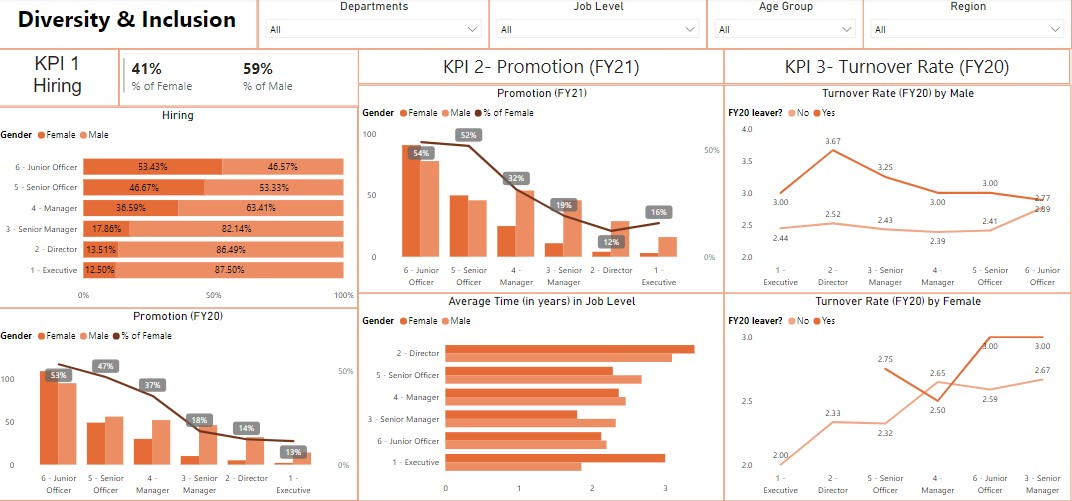

What the dashboard file says about the page in this screenshot:
{"tool":"powerbi","page":{"name":"Dashboard 1","canvas":[1540,720],"ordinal":0},"visuals":[{"type":"textbox","box":[0,0,374.4,73.4],"z":0},{"type":"slicer","title":"Departments","fields":{"Values":["Pharma Group AG.Last Department in FY20"]},"box":[374.6,0,330.7,73.2],"z":1000},{"type":"slicer","title":"Job Level","fields":{"Values":["Pharma Group AG.Job Level after FY20 promotions"]},"box":[705.4,0,311.7,73.2],"z":2000},{"type":"slicer","title":"Region","fields":{"Values":["Pharma Group AG.Broad region group: nationality 1"]},"box":[1241,0,299,73.4],"z":3000},{"type":"slicer","title":"Age Group","fields":{"Values":["Pharma Group AG.Age group"]},"box":[1017.1,0,223.9,73.2],"z":4000},{"type":"hundredPercentStackedBarChart","title":"Hiring","fields":{"Y":["CountNonNull(Pharma Group AG.Employee ID)"],"Category":["Pharma Group AG.Job Level after FY20 promotions"],"Series":["Pharma Group AG.Gender"]},"box":[0,155.5,518.4,288],"z":5000},{"type":"lineClusteredColumnComboChart","title":"Promotion (FY20)","fields":{"Y":["CountNonNull(Pharma Group AG.Employee ID)"],"Series":["Pharma Group AG.Gender"],"Y2":["Pharma Group AG.% of Female"],"Category":["Pharma Group AG.Job Level after FY20 promotions"]},"box":[0,443.5,518.4,276.5],"z":6000},{"type":"lineClusteredColumnComboChart","title":"Promotion (FY21)","fields":{"Y":["CountNonNull(Pharma Group AG.Employee ID)"],"Series":["Pharma Group AG.Gender"],"Y2":["Pharma Group AG.% of Female"],"Category":["Pharma Group AG.Job Level after FY21 promotions"]},"box":[518.4,123.8,524.2,298.1],"z":7000},{"type":"clusteredBarChart","title":"Average Time (in years) in Job Level ","fields":{"Category":["Pharma Group AG.Job Level after FY20 promotions"],"Y":["Avg(Pharma Group AG.Time in Job Level @01.07.2020)"],"Series":["Pharma Group AG.Gender"]},"box":[518.4,421.9,524.2,298.1],"z":8000},{"type":"lineChart","title":"Turnover Rate (FY20) by Female","fields":{"Category":["Pharma Group AG.Job Level after FY20 promotions"],"Y":["Avg(Pharma Group AG.FY19 Performance Rating)"],"Series":["Pharma Group AG.FY20 leaver?"]},"box":[1042.6,421.9,496.8,298.1],"z":9000},{"type":"lineChart","title":"Turnover Rate (FY20) by Male","fields":{"Category":["Pharma Group AG.Job Level after FY20 promotions"],"Y":["Avg(Pharma Group AG.FY19 Performance Rating)"],"Series":["Pharma Group AG.FY20 leaver?"]},"box":[1042.6,123.8,496.8,298.1],"z":10000},{"type":"textbox","box":[0,73.4,175.7,82.1],"z":11000},{"type":"textbox","box":[518.4,73.4,524.2,50.4],"z":12000},{"type":"textbox","box":[1042.6,73.4,495.4,50.4],"z":13000},{"type":"multiRowCard","fields":{"Values":["Pharma Group AG.% of Female","Pharma Group AG.% of Male"]},"box":[175.7,73.4,342.7,82.1],"z":14000}]}

Visuals, with their boxes in screenshot pixels (x1, y1, x2, y2), scaled from the page's 1540x720 canvas onto the 1072x501 screenshot:
textbox: {"x1": 0, "y1": 0, "x2": 261, "y2": 51}
"Departments" slicer: {"x1": 261, "y1": 0, "x2": 491, "y2": 51}
"Job Level" slicer: {"x1": 491, "y1": 0, "x2": 708, "y2": 51}
"Region" slicer: {"x1": 864, "y1": 0, "x2": 1071, "y2": 51}
"Age Group" slicer: {"x1": 708, "y1": 0, "x2": 864, "y2": 51}
"Hiring" hundredPercentStackedBarChart: {"x1": 0, "y1": 108, "x2": 361, "y2": 309}
"Promotion (FY20)" lineClusteredColumnComboChart: {"x1": 0, "y1": 309, "x2": 361, "y2": 500}
"Promotion (FY21)" lineClusteredColumnComboChart: {"x1": 361, "y1": 86, "x2": 726, "y2": 294}
"Average Time (in years) in Job Level " clusteredBarChart: {"x1": 361, "y1": 294, "x2": 726, "y2": 500}
"Turnover Rate (FY20) by Female" lineChart: {"x1": 726, "y1": 294, "x2": 1071, "y2": 500}
"Turnover Rate (FY20) by Male" lineChart: {"x1": 726, "y1": 86, "x2": 1071, "y2": 294}
textbox: {"x1": 0, "y1": 51, "x2": 122, "y2": 108}
textbox: {"x1": 361, "y1": 51, "x2": 726, "y2": 86}
textbox: {"x1": 726, "y1": 51, "x2": 1071, "y2": 86}
multiRowCard - Pharma Group AG.% of Female x Pharma Group AG.% of Male: {"x1": 122, "y1": 51, "x2": 361, "y2": 108}
